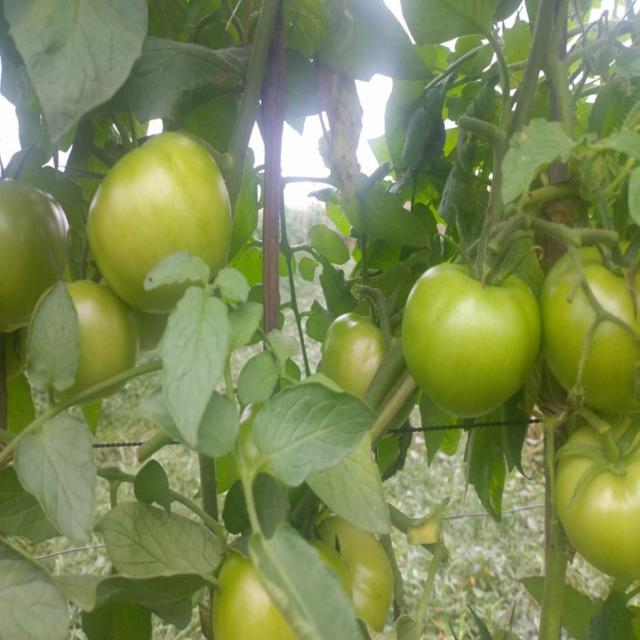tomato: (94, 125, 234, 299), (407, 263, 543, 417), (564, 425, 640, 587), (539, 239, 601, 396), (325, 516, 405, 636), (1, 176, 60, 319), (211, 550, 287, 640), (76, 283, 134, 377), (327, 309, 384, 395)
